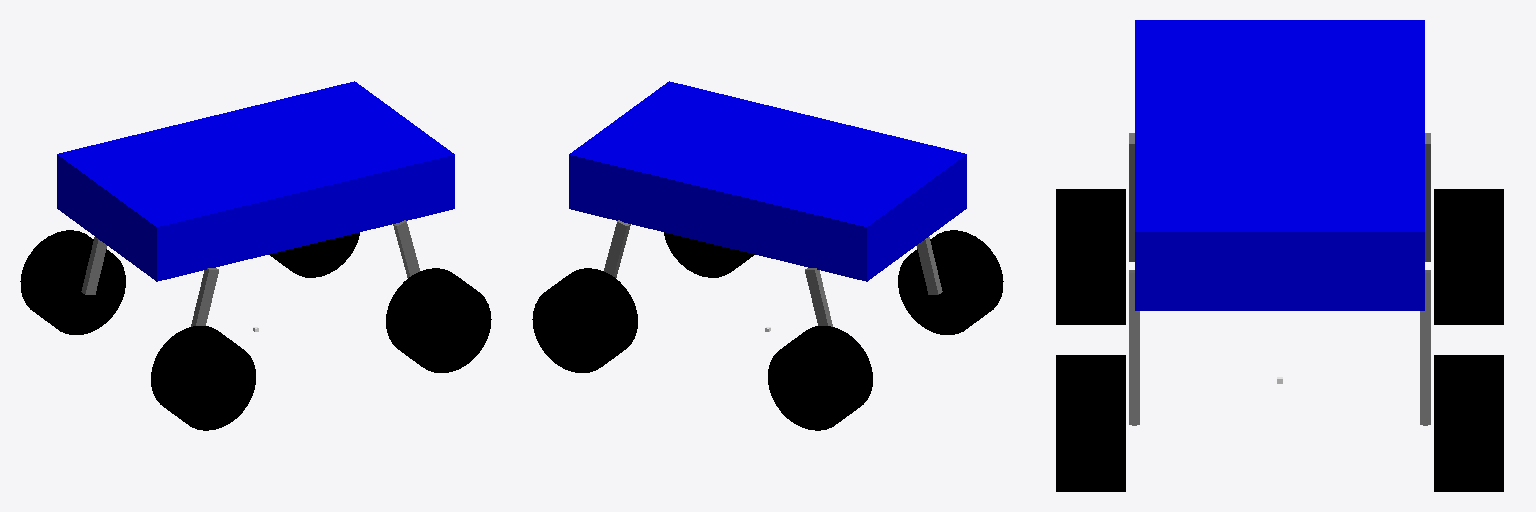
robot.urdf — ackerman_drive_robot:
<?xml version="1.0" ?>
<!-- =================================================================================== -->
<!-- |    This document was autogenerated by xacro from src/mobile_robot/model/robot.xacro | -->
<!-- |    EDITING THIS FILE BY HAND IS NOT RECOMMENDED                                 | -->
<!-- =================================================================================== -->
<robot name="ackerman_drive_robot">
  <!-- Leg mass (kg) -->
  <!-- Base Link (World Reference) -->
  <!-- The base_link serves as the fixed reference frame for the robot model -->
  <link name="base_link"/>
  <!-- BASE_FOOTPRINT LINK -->
  <joint name="base_footprint_joint" type="fixed">
    <parent link="base_link"/>
    <child link="base_footprint"/>
    <origin rpy="0 0 0" xyz="0 0 0"/>
  </joint>
  <link name="base_footprint">
  </link>
  <!-- Body Link -->
  <link name="body_link">
    <inertial>
      <origin rpy="0 0 0" xyz="0 0 0"/>
      <mass value="20.0"/>
      <inertia ixx="1.8166666666666667" ixy="0.0" ixz="0.0" iyy="5.069206666666666" iyz="0.0" izz="6.585873333333333"/>
    </inertial>
    <visual>
      <origin rpy="0 0 0" xyz="0 0 0"/>
      <geometry>
        <box size="1.718 1.0 0.3"/>
      </geometry>
      <material name="blue">
        <color rgba="0 0 1 1"/>
        <!-- Blue for visibility -->
      </material>
    </visual>
    <collision>
      <origin rpy="0 0 0" xyz="0 0 0"/>
      <geometry>
        <box size="1.718 1.0 0.3"/>
      </geometry>
    </collision>
  </link>
  <!-- imu -->
  <link name="imu_link">
    <inertial>
      <mass value="0.1"/>
      <inertia ixx="0.001" ixy="0.0" ixz="0.0" iyy="0.001" iyz="0.0" izz="0.001"/>
    </inertial>
    <visual>
      <geometry>
        <box size="0.02 0.02 0.02"/>
      </geometry>
      <material name="white">
        <color rgba="1 1 1 1"/>
      </material>
    </visual>
  </link>
  <joint name="imu_joint" type="fixed">
    <parent link="base_link"/>
    <child link="imu_link"/>
    <origin rpy="0 0 0" xyz="0 0 0.1"/>
  </joint>
  <!-- Fixed joint connecting the base_link to the body_link -->
  <joint name="body_joint" type="fixed">
    <parent link="base_link"/>
    <child link="body_link"/>
    <origin rpy="0 0 0" xyz="0 0 0.915"/>
  </joint>
  <!-- Leg Link -->
  <link name="fl_leg">
    <inertial>
      <origin rpy="0 0 0" xyz="0 0 -0.265"/>
      <mass value="10.0"/>
      <inertia ixx="0.23541666666666666" ixy="0.0" ixz="0.0" iyy="0.23708333333333334" iyz="0.0" izz="0.004333333333333333"/>
    </inertial>
    <visual>
      <origin rpy="0 0 0" xyz="0 0 -0.265"/>
      <geometry>
        <box size="0.06 0.04 0.53"/>
      </geometry>
      <material name="gray">
        <color rgba="0.5 0.5 0.5 1"/>
        <!-- Gray for visibility -->
      </material>
    </visual>
    <collision>
      <origin rpy="0 0 0" xyz="0 0 -0.265"/>
      <geometry>
        <box size="0.06 0.04 0.53"/>
      </geometry>
    </collision>
  </link>
  <!-- Fixed joint to attach the leg to the body link -->
  <joint name="fl_leg_joint" type="fixed">
    <parent link="body_link"/>
    <child link="fl_leg"/>
    <origin rpy="0 -0.2617993877991494 0" xyz="0.54 0.5 -0.15"/>
  </joint>
  <!-- Wheel Link -->
  <link name="fl_wheel">
    <inertial>
      <!-- Wheel inertial parameters: rotated so that cylinder axis is along the proper direction -->
      <origin rpy="1.5707963267948966 0 1.5707963267948966" xyz="0 0 0"/>
      <mass value="1.0"/>
      <inertia ixx="0.01864633333333333" ixy="0.0" ixz="0.0" iyy="0.01864633333333333" iyz="0.0" izz="0.027612499999999998"/>
    </inertial>
    <visual>
      <origin rpy="1.5707963267948966 0 1.5707963267948966" xyz="0 0 0"/>
      <geometry>
        <cylinder length="0.241" radius="0.235"/>
      </geometry>
      <material name="black">
        <color rgba="0 0 0 1"/>
        <!-- Black for visibility -->
      </material>
    </visual>
    <collision>
      <origin rpy="1.5707963267948966 0 1.5707963267948966 " xyz="0 0 0"/>
      <geometry>
        <cylinder length="0.241" radius="0.235"/>
      </geometry>
    </collision>
  </link>
  <link name="fl_steering_link">
    <!-- Inertial properties: Minimal mass and inertia since this is a lightweight steering component. -->
    <inertial>
      <mass value="0.1"/>
      <!-- Simple inertia values (small, uniform) for simulation stability. -->
      <inertia ixx="0.001" ixy="0.0" ixz="0.0" iyy="0.001" iyz="0.0" izz="0.001"/>
    </inertial>
    <visual>
      <origin rpy="1.5707963267948966 0 1.5707963267948966" xyz="0 0 0"/>
      <geometry>
        <cylinder length="0.01" radius="0.01"/>
      </geometry>
      <material name="invisible"/>
    </visual>
  </link>
  <!-- FRONT WHEELS-->
  <!-- Steering Joint: Allows the steering link to rotate (steer) around the vertical axis. -->
  <joint name="fl_steering_joint" type="revolute">
    <parent link="fl_leg"/>
    <!-- Parent is the leg link. -->
    <child link="fl_steering_link"/>
    <!-- Child is the steering link. -->
    <origin rpy="0 0.2617993877991494 0" xyz="0 0 -0.53"/>
    <!-- Positioned at the bottom of the leg (z offset). -->
    <axis xyz="0 0 1"/>
    <!-- Rotation axis is vertical (z-axis) for steering left/right. -->
    <!-- Limits: Steering angle range. effort, and velocity constraints. -->
    <limit effort="100000.0" lower="-0.4" upper="0.4" velocity="10.0"/>
    <dynamics damping="0.2"/>
  </joint>
  <!-- Joint connecting steering and the wheel -->
  <joint name="fl_wheel_joint" type="continuous">
    <parent link="fl_steering_link"/>
    <child link="fl_wheel"/>
    <origin rpy="0 0 1.5707963267948966" xyz="0 0.15 -0.0"/>
    <!-- WRONG   ${-leg_angle} -->
    <axis xyz="1 0 0"/>
    <dynamics damping="0.2"/>
  </joint>
  <!-- Leg Link -->
  <link name="fr_leg">
    <inertial>
      <origin rpy="0 0 0" xyz="0 0 -0.265"/>
      <mass value="10.0"/>
      <inertia ixx="0.23541666666666666" ixy="0.0" ixz="0.0" iyy="0.23708333333333334" iyz="0.0" izz="0.004333333333333333"/>
    </inertial>
    <visual>
      <origin rpy="0 0 0" xyz="0 0 -0.265"/>
      <geometry>
        <box size="0.06 0.04 0.53"/>
      </geometry>
      <material name="gray">
        <color rgba="0.5 0.5 0.5 1"/>
        <!-- Gray for visibility -->
      </material>
    </visual>
    <collision>
      <origin rpy="0 0 0" xyz="0 0 -0.265"/>
      <geometry>
        <box size="0.06 0.04 0.53"/>
      </geometry>
    </collision>
  </link>
  <!-- Fixed joint to attach the leg to the body link -->
  <joint name="fr_leg_joint" type="fixed">
    <parent link="body_link"/>
    <child link="fr_leg"/>
    <origin rpy="0 -0.2617993877991494 0" xyz="0.54 -0.5 -0.15"/>
  </joint>
  <!-- Wheel Link -->
  <link name="fr_wheel">
    <inertial>
      <!-- Wheel inertial parameters: rotated so that cylinder axis is along the proper direction -->
      <origin rpy="1.5707963267948966 0 1.5707963267948966" xyz="0 0 0"/>
      <mass value="1.0"/>
      <inertia ixx="0.01864633333333333" ixy="0.0" ixz="0.0" iyy="0.01864633333333333" iyz="0.0" izz="0.027612499999999998"/>
    </inertial>
    <visual>
      <origin rpy="1.5707963267948966 0 1.5707963267948966" xyz="0 0 0"/>
      <geometry>
        <cylinder length="0.241" radius="0.235"/>
      </geometry>
      <material name="black">
        <color rgba="0 0 0 1"/>
        <!-- Black for visibility -->
      </material>
    </visual>
    <collision>
      <origin rpy="1.5707963267948966 0 1.5707963267948966 " xyz="0 0 0"/>
      <geometry>
        <cylinder length="0.241" radius="0.235"/>
      </geometry>
    </collision>
  </link>
  <link name="fr_steering_link">
    <!-- Inertial properties: Minimal mass and inertia since this is a lightweight steering component. -->
    <inertial>
      <mass value="0.1"/>
      <!-- Simple inertia values (small, uniform) for simulation stability. -->
      <inertia ixx="0.001" ixy="0.0" ixz="0.0" iyy="0.001" iyz="0.0" izz="0.001"/>
    </inertial>
    <visual>
      <origin rpy="1.5707963267948966 0 1.5707963267948966" xyz="0 0 0"/>
      <geometry>
        <cylinder length="0.01" radius="0.01"/>
      </geometry>
      <material name="invisible"/>
    </visual>
  </link>
  <!-- FRONT WHEELS-->
  <!-- Steering Joint: Allows the steering link to rotate (steer) around the vertical axis. -->
  <joint name="fr_steering_joint" type="revolute">
    <parent link="fr_leg"/>
    <!-- Parent is the leg link. -->
    <child link="fr_steering_link"/>
    <!-- Child is the steering link. -->
    <origin rpy="0 0.2617993877991494 0" xyz="0 0 -0.53"/>
    <!-- Positioned at the bottom of the leg (z offset). -->
    <axis xyz="0 0 1"/>
    <!-- Rotation axis is vertical (z-axis) for steering left/right. -->
    <!-- Limits: Steering angle range. effort, and velocity constraints. -->
    <limit effort="100000.0" lower="-0.4" upper="0.4" velocity="10.0"/>
    <dynamics damping="0.2"/>
  </joint>
  <!-- Joint connecting steering and the wheel -->
  <joint name="fr_wheel_joint" type="continuous">
    <parent link="fr_steering_link"/>
    <child link="fr_wheel"/>
    <origin rpy="0 0 1.5707963267948966" xyz="0 -0.15 -0.0"/>
    <!-- WRONG   ${-leg_angle}-->
    <axis xyz="1 0 0"/>
    <dynamics damping="0.2"/>
  </joint>
  <!-- Leg Link -->
  <link name="bl_leg">
    <inertial>
      <origin rpy="0 0 0" xyz="0 0 -0.265"/>
      <mass value="10.0"/>
      <inertia ixx="0.23541666666666666" ixy="0.0" ixz="0.0" iyy="0.23708333333333334" iyz="0.0" izz="0.004333333333333333"/>
    </inertial>
    <visual>
      <origin rpy="0 0 0" xyz="0 0 -0.265"/>
      <geometry>
        <box size="0.06 0.04 0.53"/>
      </geometry>
      <material name="gray">
        <color rgba="0.5 0.5 0.5 1"/>
        <!-- Gray for visibility -->
      </material>
    </visual>
    <collision>
      <origin rpy="0 0 0" xyz="0 0 -0.265"/>
      <geometry>
        <box size="0.06 0.04 0.53"/>
      </geometry>
    </collision>
  </link>
  <!-- Fixed joint to attach the leg to the body link -->
  <joint name="bl_leg_joint" type="fixed">
    <parent link="body_link"/>
    <child link="bl_leg"/>
    <origin rpy="0 0.2617993877991494 0" xyz="-0.54 0.5 -0.15"/>
  </joint>
  <!-- Wheel Link -->
  <link name="bl_wheel">
    <inertial>
      <!-- Wheel inertial parameters: rotated so that cylinder axis is along the proper direction -->
      <origin rpy="1.5707963267948966 0 1.5707963267948966" xyz="0 0 0"/>
      <mass value="1.0"/>
      <inertia ixx="0.01864633333333333" ixy="0.0" ixz="0.0" iyy="0.01864633333333333" iyz="0.0" izz="0.027612499999999998"/>
    </inertial>
    <visual>
      <origin rpy="1.5707963267948966 0 1.5707963267948966" xyz="0 0 0"/>
      <geometry>
        <cylinder length="0.241" radius="0.235"/>
      </geometry>
      <material name="black">
        <color rgba="0 0 0 1"/>
        <!-- Black for visibility -->
      </material>
    </visual>
    <collision>
      <origin rpy="1.5707963267948966 0 1.5707963267948966 " xyz="0 0 0"/>
      <geometry>
        <cylinder length="0.241" radius="0.235"/>
      </geometry>
    </collision>
  </link>
  <joint name="bl_wheel_joint" type="continuous">
    <parent link="bl_leg"/>
    <child link="bl_wheel"/>
    <origin rpy="0 0 1.5707963267948966" xyz="0 0.15 -0.53"/>
    <axis xyz="1 0 0"/>
    <dynamics damping="0.01"/>
  </joint>
  <!-- Leg Link -->
  <link name="br_leg">
    <inertial>
      <origin rpy="0 0 0" xyz="0 0 -0.265"/>
      <mass value="10.0"/>
      <inertia ixx="0.23541666666666666" ixy="0.0" ixz="0.0" iyy="0.23708333333333334" iyz="0.0" izz="0.004333333333333333"/>
    </inertial>
    <visual>
      <origin rpy="0 0 0" xyz="0 0 -0.265"/>
      <geometry>
        <box size="0.06 0.04 0.53"/>
      </geometry>
      <material name="gray">
        <color rgba="0.5 0.5 0.5 1"/>
        <!-- Gray for visibility -->
      </material>
    </visual>
    <collision>
      <origin rpy="0 0 0" xyz="0 0 -0.265"/>
      <geometry>
        <box size="0.06 0.04 0.53"/>
      </geometry>
    </collision>
  </link>
  <!-- Fixed joint to attach the leg to the body link -->
  <joint name="br_leg_joint" type="fixed">
    <parent link="body_link"/>
    <child link="br_leg"/>
    <origin rpy="0 0.2617993877991494 0" xyz="-0.54 -0.5 -0.15"/>
  </joint>
  <!-- Wheel Link -->
  <link name="br_wheel">
    <inertial>
      <!-- Wheel inertial parameters: rotated so that cylinder axis is along the proper direction -->
      <origin rpy="1.5707963267948966 0 1.5707963267948966" xyz="0 0 0"/>
      <mass value="1.0"/>
      <inertia ixx="0.01864633333333333" ixy="0.0" ixz="0.0" iyy="0.01864633333333333" iyz="0.0" izz="0.027612499999999998"/>
    </inertial>
    <visual>
      <origin rpy="1.5707963267948966 0 1.5707963267948966" xyz="0 0 0"/>
      <geometry>
        <cylinder length="0.241" radius="0.235"/>
      </geometry>
      <material name="black">
        <color rgba="0 0 0 1"/>
        <!-- Black for visibility -->
      </material>
    </visual>
    <collision>
      <origin rpy="1.5707963267948966 0 1.5707963267948966 " xyz="0 0 0"/>
      <geometry>
        <cylinder length="0.241" radius="0.235"/>
      </geometry>
    </collision>
  </link>
  <joint name="br_wheel_joint" type="continuous">
    <parent link="br_leg"/>
    <child link="br_wheel"/>
    <origin rpy="0 0 1.5707963267948966" xyz="0 -0.15 -0.53"/>
    <axis xyz="1 0 0"/>
    <dynamics damping="0.01"/>
  </joint>
  <ros2_control name="GazeboSystem" type="system">
    <hardware>
      <plugin>gz_ros2_control/GazeboSimSystem</plugin>
    </hardware>
    <joint name="fl_steering_joint">
      <command_interface name="position"/>
      <state_interface name="position"/>
      <state_interface name="velocity"/>
    </joint>
    <joint name="fr_steering_joint">
      <command_interface name="position"/>
      <state_interface name="position"/>
      <state_interface name="velocity"/>
    </joint>
    <joint name="bl_wheel_joint">
      <command_interface name="velocity"/>
      <state_interface name="position"/>
      <state_interface name="velocity"/>
    </joint>
    <joint name="br_wheel_joint">
      <command_interface name="velocity"/>
      <state_interface name="position"/>
      <state_interface name="velocity"/>
    </joint>
    <!--To show them in rviz  -->
    <joint name="fl_wheel_joint">
      <command_interface name="velocity"/>
      <state_interface name="position"/>
      <state_interface name="velocity"/>
    </joint>
    <joint name="fr_wheel_joint">
      <command_interface name="velocity"/>
      <state_interface name="position"/>
      <state_interface name="velocity"/>
    </joint>
  </ros2_control>
  <!-- Transmission Elements -->
  <!-- Transmissions map joint commands to actuator commands -->
  <!--
  This defines a transmission between an actuator and a joint.

  - 'SimpleTransmission' assumes a 1:1 mapping (no reduction or gearing).
  - The actuator (fl_wheel_actuator) will control the joint (fl_wheel_joint).
  - Required by ros2_control to map control commands to physical or simulated hardware.
-->
  <transmission name="fl_steering_trans">
    <type>transmission_interface/SimpleTransmission</type>
    <joint name="fl_steering_joint"/>
    <actuator name="fl_steering_actuator"/>
  </transmission>
  <transmission name="fr_steering_trans">
    <type>transmission_interface/SimpleTransmission</type>
    <joint name="fr_steering_joint"/>
    <actuator name="fr_steering_actuator"/>
  </transmission>
  <transmission name="bl_wheel_trans">
    <type>transmission_interface/SimpleTransmission</type>
    <joint name="bl_wheel_joint"/>
    <actuator name="bl_wheel_actuator"/>
  </transmission>
  <transmission name="br_wheel_trans">
    <type>transmission_interface/SimpleTransmission</type>
    <joint name="br_wheel_joint"/>
    <actuator name="br_wheel_actuator"/>
  </transmission>
  <transmission name="fl_wheel_trans">
    <type>transmission_interface/SimpleTransmission</type>
    <joint name="fl_wheel_joint"/>
    <actuator name="fl_wheel_actuator"/>
  </transmission>
  <transmission name="fr_wheel_trans">
    <type>transmission_interface/SimpleTransmission</type>
    <joint name="fr_wheel_joint"/>
    <actuator name="fr_wheel_actuator"/>
  </transmission>
  <!-- Gazebo-Specific Properties -->
  <!-- Body with custom dark grey material -->
  <gazebo reference="body_link">
    <mu1>1.0</mu1>
    <mu2>1.0</mu2>
    <material>
      <ambient>0.1 0.1 0.1 1</ambient>
      <diffuse>0.3 0.3 0.3 1</diffuse>
      <specular>0.5 0.5 0.5 1</specular>
      <emissive>0 0 0 1</emissive>
    </material>
  </gazebo>
  <!-- Legs with matching dark grey material -->
  <gazebo reference="fl_leg">
    <mu1>1.0</mu1>
    <mu2>1.0</mu2>
    <material>
      <ambient>0.1 0.1 0.1 1</ambient>
      <diffuse>0.3 0.3 0.3 1</diffuse>
      <specular>0.5 0.5 0.5 1</specular>
      <emissive>0 0 0 1</emissive>
    </material>
  </gazebo>
  <gazebo reference="fr_leg">
    <mu1>1.0</mu1>
    <mu2>1.0</mu2>
    <material>
      <ambient>0.1 0.1 0.1 1</ambient>
      <diffuse>0.3 0.3 0.3 1</diffuse>
      <specular>0.5 0.5 0.5 1</specular>
      <emissive>0 0 0 1</emissive>
    </material>
  </gazebo>
  <gazebo reference="bl_leg">
    <mu1>1.0</mu1>
    <mu2>1.0</mu2>
    <material>
      <ambient>0.1 0.1 0.1 1</ambient>
      <diffuse>0.3 0.3 0.3 1</diffuse>
      <specular>0.5 0.5 0.5 1</specular>
      <emissive>0 0 0 1</emissive>
    </material>
  </gazebo>
  <gazebo reference="br_leg">
    <mu1>1.0</mu1>
    <mu2>1.0</mu2>
    <material>
      <ambient>0.1 0.1 0.1 1</ambient>
      <diffuse>0.3 0.3 0.3 1</diffuse>
      <specular>0.5 0.5 0.5 1</specular>
      <emissive>0 0 0 1</emissive>
    </material>
  </gazebo>
  <!-- Wheels set to black -->
  <!-- <gazebo reference="fl_wheel">
    <mu1>0.1</mu1>
    <mu2>0.1</mu2>
    <material>Gazebo/Black</material>
  </gazebo>
  <gazebo reference="fr_wheel">
    <mu1>0.1</mu1>
    <mu2>0.1</mu2>
    <material>Gazebo/Black</material>
  </gazebo> -->
  <gazebo reference="fl_wheel">
    <mu1>1</mu1>
    <mu2>1</mu2>
    <material>Gazebo/Black</material>
  </gazebo>
  <gazebo reference="fr_wheel">
    <mu1>1</mu1>
    <mu2>1</mu2>
    <material>Gazebo/Black</material>
  </gazebo>
  <gazebo reference="bl_wheel">
    <mu1>1</mu1>
    <mu2>1</mu2>
    <material>Gazebo/Black</material>
  </gazebo>
  <gazebo reference="br_wheel">
    <mu1>1</mu1>
    <mu2>1</mu2>
    <material>Gazebo/Black</material>
  </gazebo>
  <gazebo>
    <plugin filename="gz-sim-joint-state-publisher-system" name="gz::sim::systems::JointStatePublisher">
      <topic>joint_states</topic>
      <joint_name>fr_steering_joint</joint_name>
      <joint_name>fl_steering_joint</joint_name>
      <joint_name>br_wheel_joint</joint_name>
      <joint_name>bl_wheel_joint</joint_name>
      <joint_name>fl_wheel_joint</joint_name>
      <joint_name>fr_wheel_joint</joint_name>
    </plugin>
  </gazebo>
  <!--                                        
  <gazebo>
      <plugin name="gz_ros2_control::GazeboSimROS2ControlPlugin" filename="libgz_ros2_control-system.so">
          <parameters>$(find articubot_one)/config/my_controllers.yaml</parameters>
          <parameters>$(find articubot_one)/config/gaz_ros2_ctl_use_sim.yaml</parameters>
      </plugin>
  </gazebo> -->
  <gazebo>
    <plugin filename="gz-sim-ackermann-steering-system" name="gz::sim::systems::AckermannSteering">
      <robot_sim_type>gz_ros2_control/GazeboSimSystem</robot_sim_type>
      <odometry_frame>odom</odometry_frame>
      <robot_base_frame>base_link</robot_base_frame>
      <publish_odom>true</publish_odom>
      <tf_topic>/tf</tf_topic>
      <odom_topic>/demo/odom</odom_topic>
      <publish_odom_tf>true</publish_odom_tf>
      <publish_wheel_tf>true</publish_wheel_tf>
      <left_joint>bl_wheel_joint</left_joint>
      <left_joint>fl_wheel_joint</left_joint>
      <right_joint>fr_wheel_joint</right_joint>
      <right_joint>br_wheel_joint</right_joint>
      <left_steering_joint>fl_steering_joint</left_steering_joint>
      <right_steering_joint>fr_steering_joint</right_steering_joint>
      <wheel_separation>1</wheel_separation>
      <wheel_radius>0.235</wheel_radius>
      <kingpin_width>1.0</kingpin_width>
      <topic>cmd_vel</topic>
    </plugin>
  </gazebo>
  <!-- <gazebo>
  <plugin name="gz_ros2_control" filename="libgazebo_ros2_control.so">
    <parameters>$(find mobile_robot)/config/ackermann_controllers.yaml</parameters>
  </plugin>
</gazebo>  -->
  <!-- <gazebo>
  <plugin name="gz::sim::systems::AckermannSteering" filename="gz-sim-ackermann-steering-system">
    <parameters>$(find mobile_robot)/config/ackermann_controllers.yaml</parameters>
  </plugin>
</gazebo>  -->
  <!-- <gazebo reference="imu_link">
    <sensor name="imu_sensor" type="imu">
      <always_on>true</always_on>
      <update_rate>100</update_rate>
      <topic>/demo/imu</topic>  
      <imu>
        <noise>
          <type>gaussian</type>
          <rate>
            <mean>0.0</mean>
            <stddev>0.01</stddev>
          </rate>
          <accel>
            <mean>0.0</mean>
            <stddev>0.05</stddev>
          </accel>
        </noise>
      </imu>
    </sensor>
  </gazebo> -->
  <gazebo reference="imu_link">
    <material>Gazebo/Grey</material>
    <sensor name="imu_sensor" type="imu">
      <always_on>true</always_on>
      <update_rate>250</update_rate>
      <enable_orientation>1</enable_orientation>
      <visualize>true</visualize>
      <topic>imu/data</topic>
      <gz_frame_id>base_link</gz_frame_id>
      <imu>
        <angular_velocity>
          <x>
            <noise type="gaussian">
              <mean>0.0</mean>
              <stddev>2e-4</stddev>
              <bias_mean>0.0000075</bias_mean>
              <bias_stddev>0.0000008</bias_stddev>
            </noise>
          </x>
          <y>
            <noise type="gaussian">
              <mean>0.0</mean>
              <stddev>2e-4</stddev>
              <bias_mean>0.0000075</bias_mean>
              <bias_stddev>0.0000008</bias_stddev>
            </noise>
          </y>
          <z>
            <noise type="gaussian">
              <mean>0.0</mean>
              <stddev>2e-4</stddev>
              <bias_mean>0.0000075</bias_mean>
              <bias_stddev>0.0000008</bias_stddev>
            </noise>
          </z>
        </angular_velocity>
        <linear_acceleration>
          <x>
            <noise type="gaussian">
              <mean>0.0</mean>
              <stddev>1.7e-2</stddev>
              <bias_mean>0.1</bias_mean>
              <bias_stddev>0.001</bias_stddev>
            </noise>
          </x>
          <y>
            <noise type="gaussian">
              <mean>0.0</mean>
              <stddev>1.7e-2</stddev>
              <bias_mean>0.1</bias_mean>
              <bias_stddev>0.001</bias_stddev>
            </noise>
          </y>
          <z>
            <noise type="gaussian">
              <mean>0.0</mean>
              <stddev>1.7e-2</stddev>
              <bias_mean>0.1</bias_mean>
              <bias_stddev>0.001</bias_stddev>
            </noise>
          </z>
        </linear_acceleration>
      </imu>
    </sensor>
  </gazebo>
  <!-- <xacro:include filename="$(find mobile_robot)/description/gps.xacro"/> -->
  <!-- <xacro:include filename="$(find mobile_robot)/description/camera.xacro" />
  <xacro:include filename="$(find mobile_robot)/description/lidar.xacro" /> -->
</robot>

--- Render facts (derived) ---
Views: 3 orthographic renders of the robot side by side, from view 1: azimuth 30°, elevation 25°; view 2: azimuth 150°, elevation 25°; view 3: azimuth 270°, elevation 25°.
Robot: ackerman_drive_robot — 14 links, 13 joints (2 revolute, 4 continuous, 7 fixed); root link base_link; default pose: every joint at zero.
Visible links, largest first — view 1: body_link, fr_wheel, br_wheel, bl_wheel, fl_wheel, br_leg, bl_leg, fr_leg; view 2: body_link, fl_wheel, bl_wheel, br_wheel, fr_wheel, bl_leg, br_leg, fl_leg; view 3: body_link, fl_wheel, fr_wheel, bl_wheel, br_wheel, fl_leg, fr_leg, bl_leg, br_leg.
Link boxes in pixels (x1=…): body_link: x1=57, y1=81, x2=454, y2=281; fr_wheel: x1=386, y1=268, x2=491, y2=372; br_wheel: x1=151, y1=326, x2=255, y2=430; bl_wheel: x1=20, y1=230, x2=125, y2=334; fl_wheel: x1=269, y1=232, x2=359, y2=277; br_leg: x1=191, y1=268, x2=218, y2=326; bl_leg: x1=81, y1=237, x2=106, y2=294; fr_leg: x1=393, y1=220, x2=419, y2=277; body_link: x1=569, y1=81, x2=966, y2=281; fl_wheel: x1=532, y1=268, x2=637, y2=372; bl_wheel: x1=768, y1=326, x2=872, y2=430; br_wheel: x1=898, y1=230, x2=1003, y2=334; fr_wheel: x1=664, y1=232, x2=754, y2=277; bl_leg: x1=805, y1=268, x2=832, y2=326; br_leg: x1=917, y1=237, x2=942, y2=294; fl_leg: x1=604, y1=220, x2=630, y2=277; body_link: x1=1135, y1=20, x2=1424, y2=310; fl_wheel: x1=1434, y1=355, x2=1503, y2=491; fr_wheel: x1=1056, y1=355, x2=1125, y2=491; bl_wheel: x1=1434, y1=189, x2=1503, y2=324; br_wheel: x1=1056, y1=189, x2=1125, y2=324; fl_leg: x1=1420, y1=270, x2=1430, y2=424; fr_leg: x1=1129, y1=270, x2=1139, y2=424; bl_leg: x1=1425, y1=133, x2=1430, y2=261; br_leg: x1=1129, y1=133, x2=1134, y2=261.
Size in the robot's own frame: 1.82 by 1.54 by 1.05 metres.
Geometry: primitives only (box / cylinder / sphere), no mesh files.